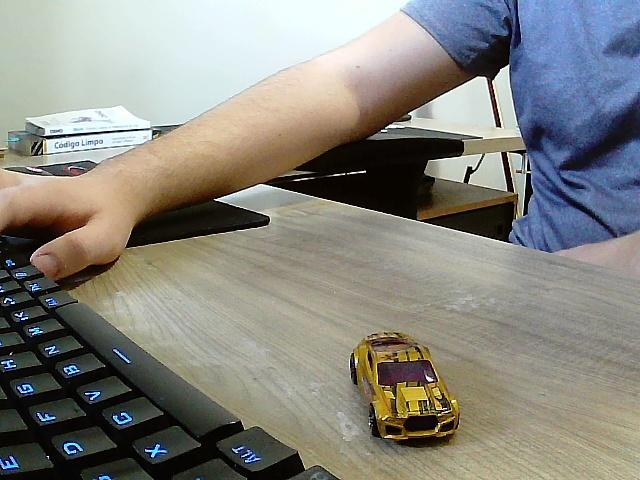Carro: (350, 333, 459, 446)
